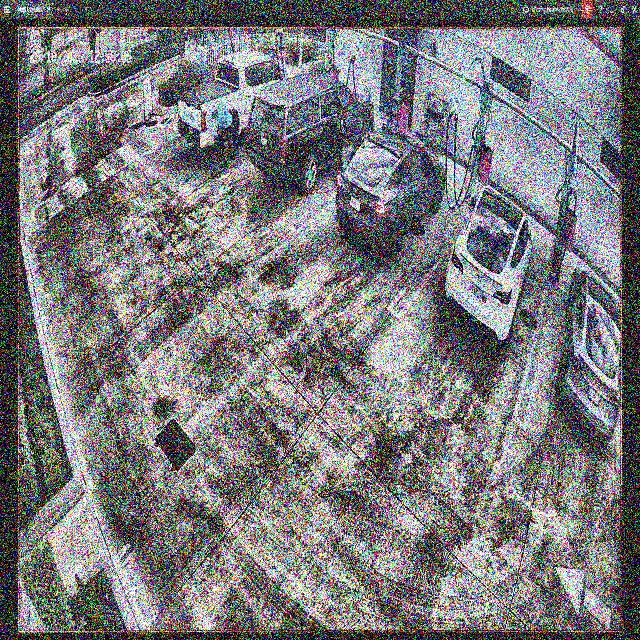Car: (248, 77, 375, 193), (332, 129, 445, 259), (447, 185, 534, 345), (178, 47, 302, 156)
